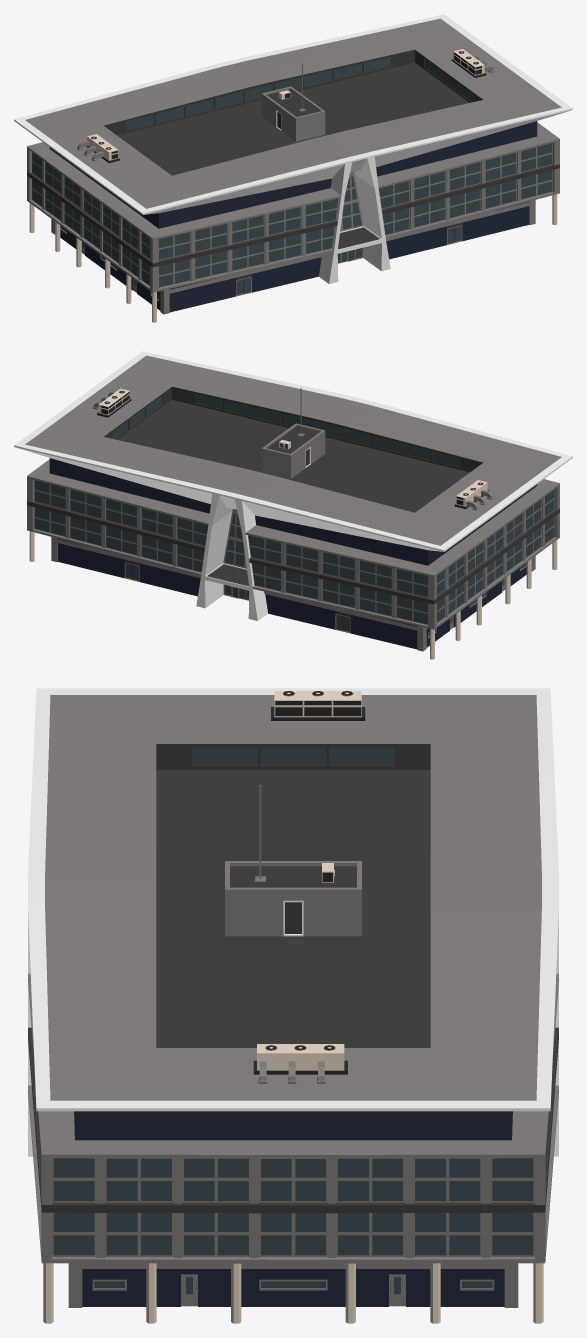
Rendered from buildings_building-train-station.fbx.
3 renders of one model, top to bottom at view 1: azimuth 30°, elevation 25°; view 2: azimuth 150°, elevation 25°; view 3: azimuth 270°, elevation 25°, orthographic. The views are drawn at different scales.
Visible parts, largest first — view 1: buildings_building_train_station; view 2: buildings_building_train_station; view 3: buildings_building_train_station.
Part boxes in pixels (x1,y1,x2,y2): buildings_building_train_station: [14, 14, 572, 322]; buildings_building_train_station: [14, 351, 572, 659]; buildings_building_train_station: [28, 688, 558, 1323].
Size of the model in its own units: 200 by 75.86 by 107.
